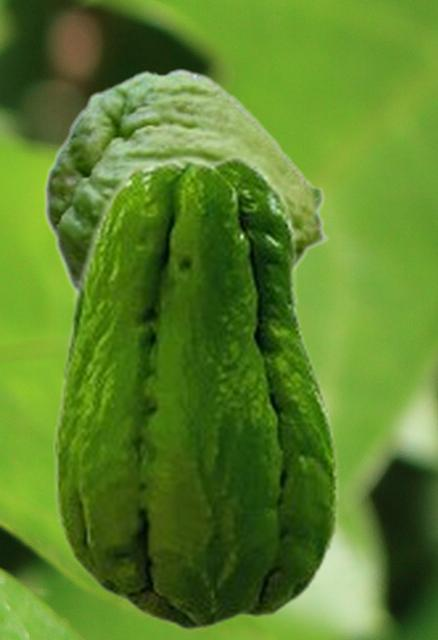sayote: (53, 153, 339, 631), (43, 67, 330, 294)
